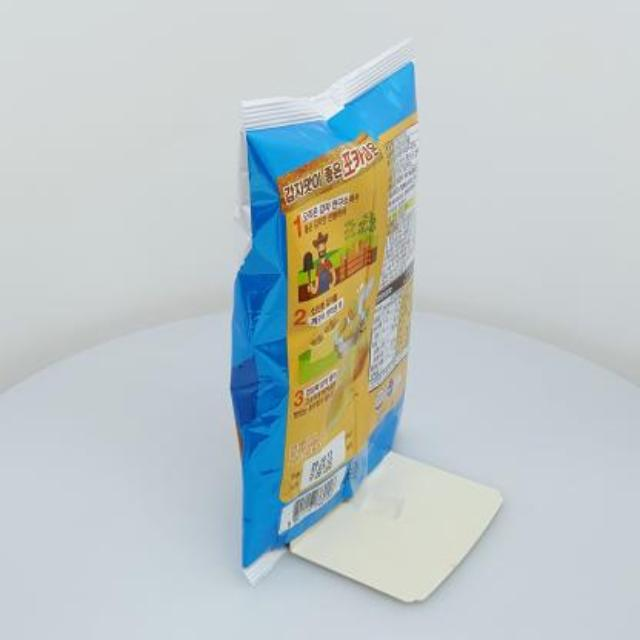snack_bag: (196, 28, 468, 608)
